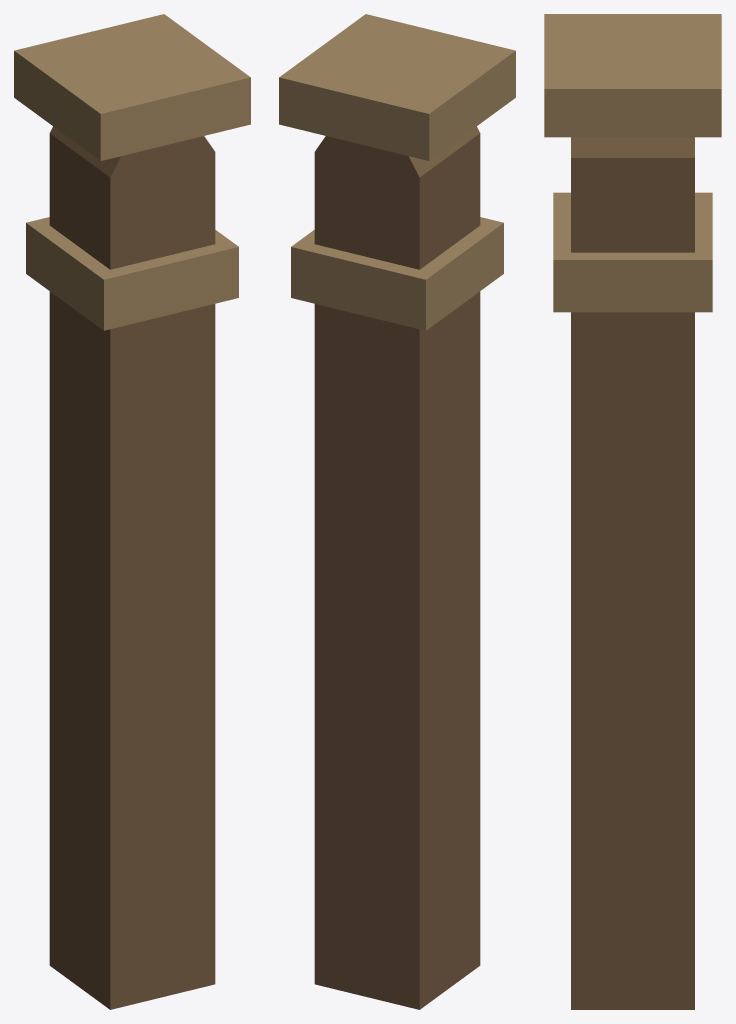
The model's file is TW_WOOD_END_CAP_B_LOD0.glb.
3 renders of one model, left to right at view 1: azimuth 30°, elevation 25°; view 2: azimuth 150°, elevation 25°; view 3: azimuth 270°, elevation 25°, orthographic. The views are drawn at different scales.
Visible parts, largest first — view 1: TW_WOOD_END_CAP_B_LOD0; view 2: TW_WOOD_END_CAP_B_LOD0; view 3: TW_WOOD_END_CAP_B_LOD0.
Boxes of the visible parts, x1,y1,x2,y2 form: TW_WOOD_END_CAP_B_LOD0: (14, 14, 250, 1009); TW_WOOD_END_CAP_B_LOD0: (279, 14, 515, 1009); TW_WOOD_END_CAP_B_LOD0: (544, 14, 721, 1009).
Bounding box in the file's own units: 0.2 × 1.16 × 0.2.
1 material, 1 textured.
